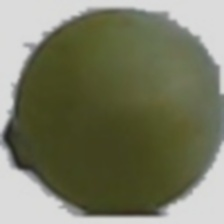grapes: (39, 15, 195, 216)
